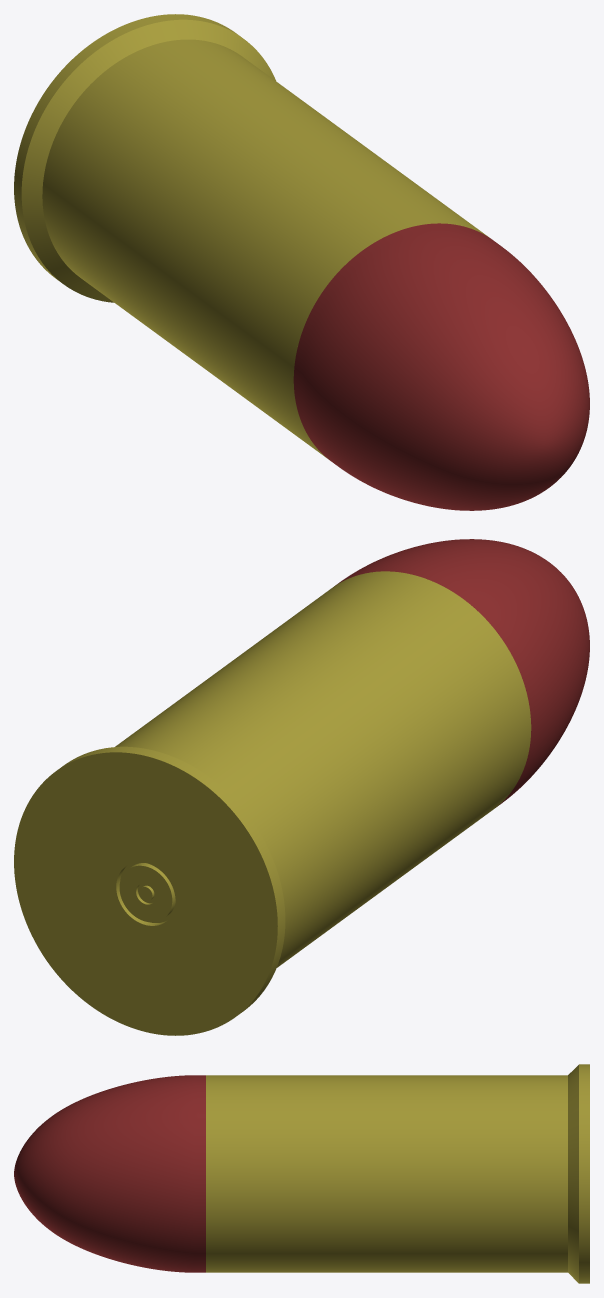
The model's file is shell.fbx.
3 views of the same model, one above another, from view 1: azimuth 30°, elevation 25°; view 2: azimuth 150°, elevation 25°; view 3: azimuth 270°, elevation 25° (orthographic). The views are drawn at different scales.
Parts seen in each view (by area): view 1: Objekt_2_Metall (1)_0; view 2: Objekt_2_Metall (1)_0; view 3: Objekt_2_Metall (1)_0.
Part boxes in pixels (left/top/right/bottom): Objekt_2_Metall (1)_0: left=14, top=14, right=589, bottom=510; Objekt_2_Metall (1)_0: left=14, top=539, right=589, bottom=1035; Objekt_2_Metall (1)_0: left=14, top=1064, right=589, bottom=1283.
Bounding box in the file's own units: 44.92 × 44.92 × 118.
